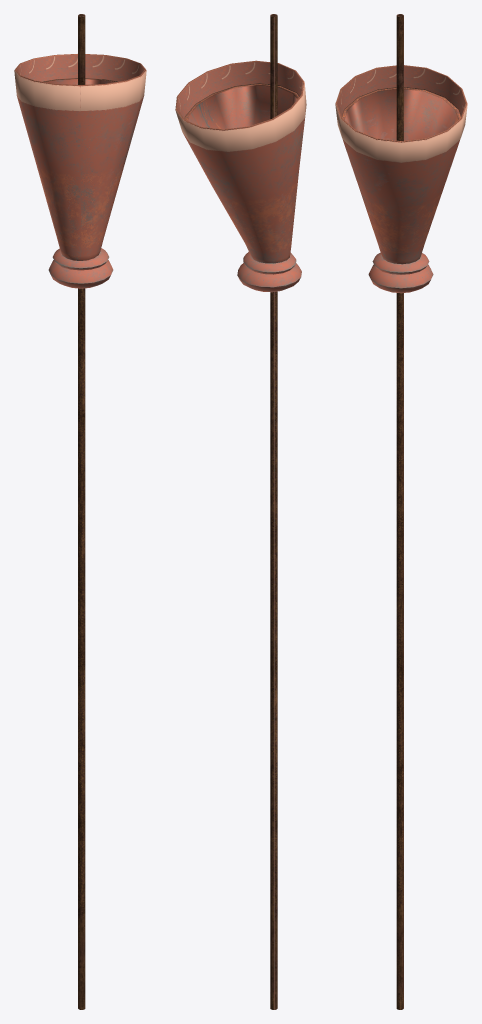
Rendered from Asen 2.fbx.
The picture shows the model from 3 angles, left to right: view 1: azimuth 90°, elevation 25°; view 2: azimuth 210°, elevation 25°; view 3: azimuth 270°, elevation 25°; orthographic projection.
Visible parts, largest first — view 1: Cone.002; view 2: Cone.002; view 3: Cone.002.
Boxes of the visible parts, x1,y1,x2,y2 form: Cone.002: (14,14,146,1009); Cone.002: (175,14,306,1009); Cone.002: (335,14,467,1009).
Size of the model in its own units: 109 by 905 by 109.
1 material, 1 textured.
